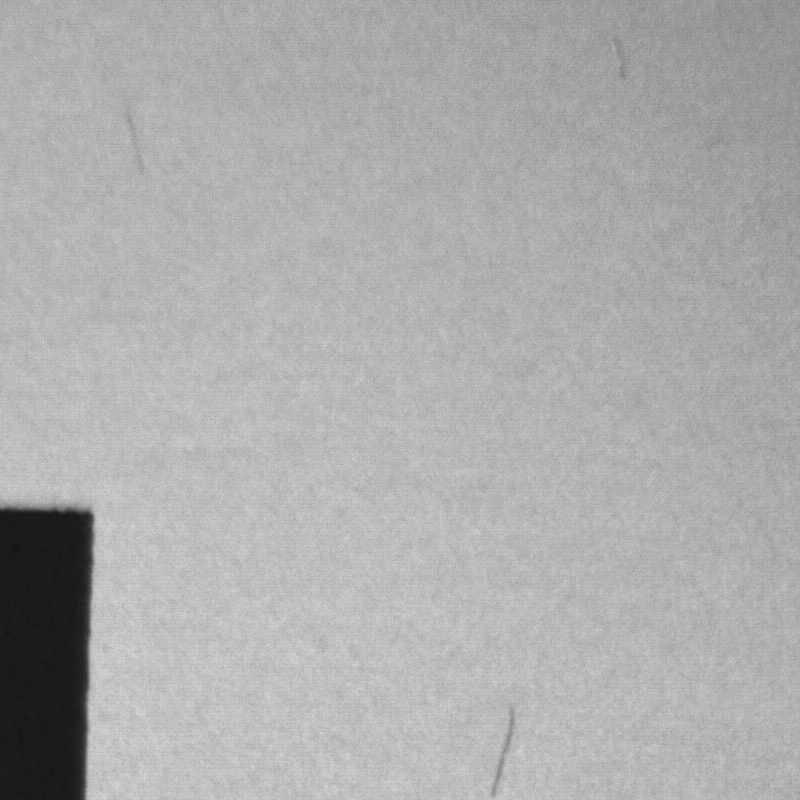defect: (493, 709, 512, 798), (130, 114, 145, 174), (616, 39, 630, 82)
